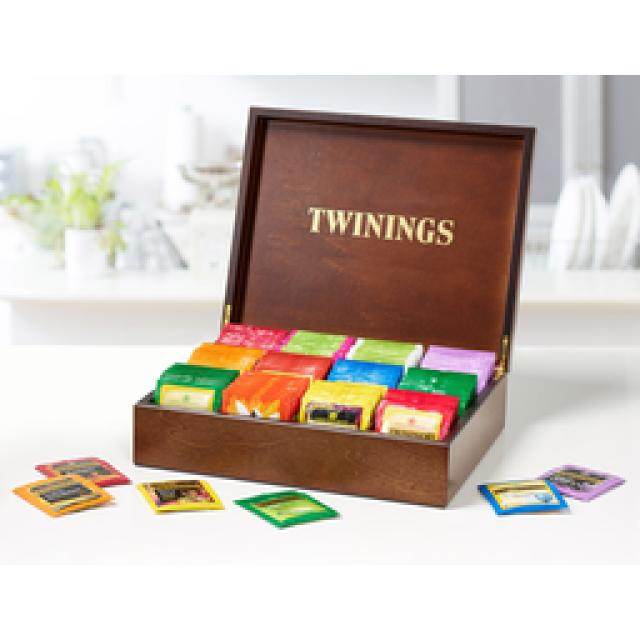tea-bags: (160, 325, 500, 438), (15, 458, 128, 515), (478, 468, 622, 512), (235, 490, 335, 525), (138, 480, 222, 512)
